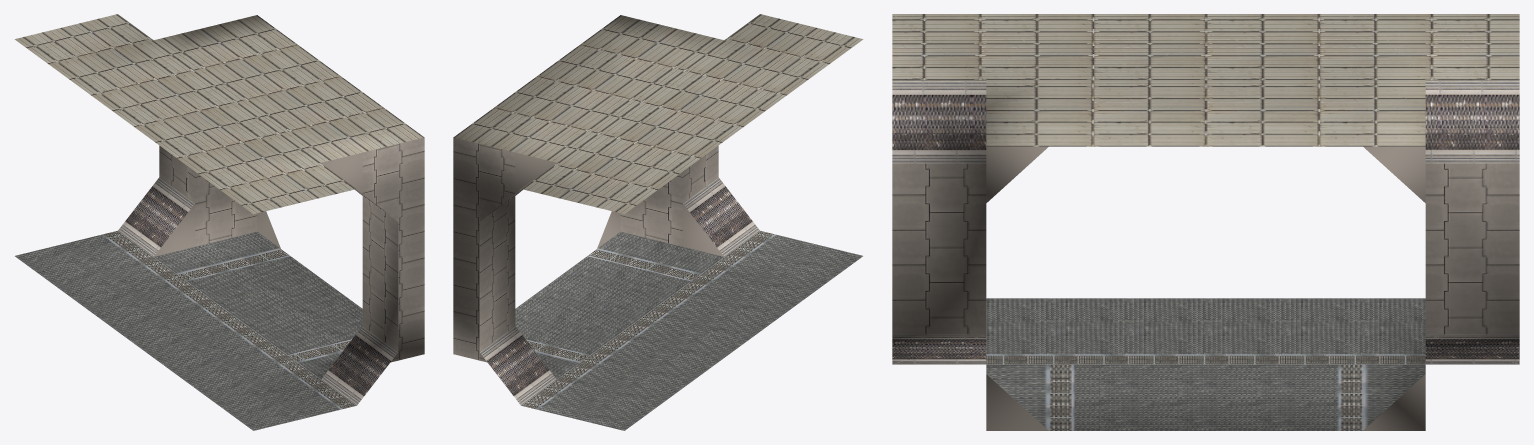
The model's file is corridor_T_half.obj.
3 renders of one model, left to right at view 1: azimuth 30°, elevation 25°; view 2: azimuth 150°, elevation 25°; view 3: azimuth 270°, elevation 25°, orthographic. The views are drawn at different scales.
Visible parts, largest first — view 1: cube1; view 2: cube1; view 3: cube1.
Boxes of the visible parts, x1,y1,x2,y2 form: cube1: (14,14,424,430); cube1: (453,14,863,430); cube1: (892,14,1519,430).
Size of the model in its own units: 10 by 10 by 20.
